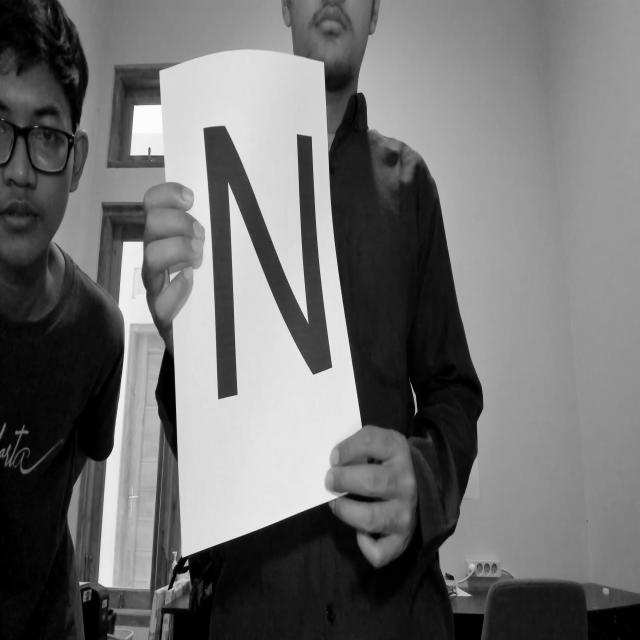n: (187, 84, 363, 415)
